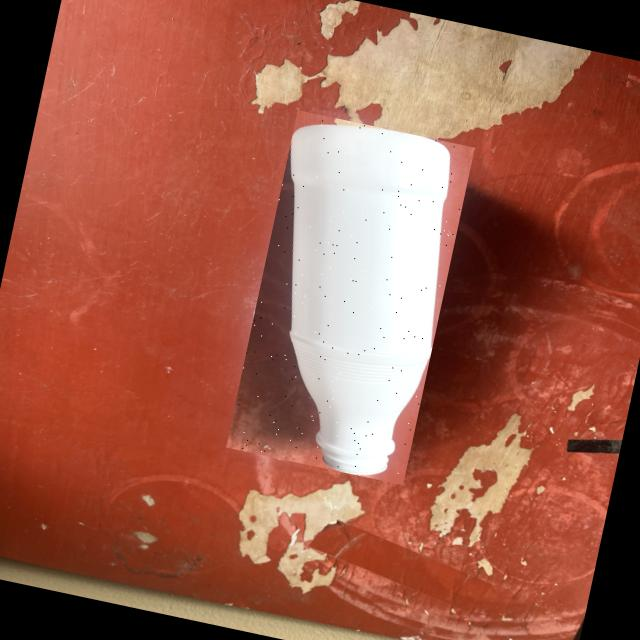HDPE_Bottle: (291, 125, 450, 473)
